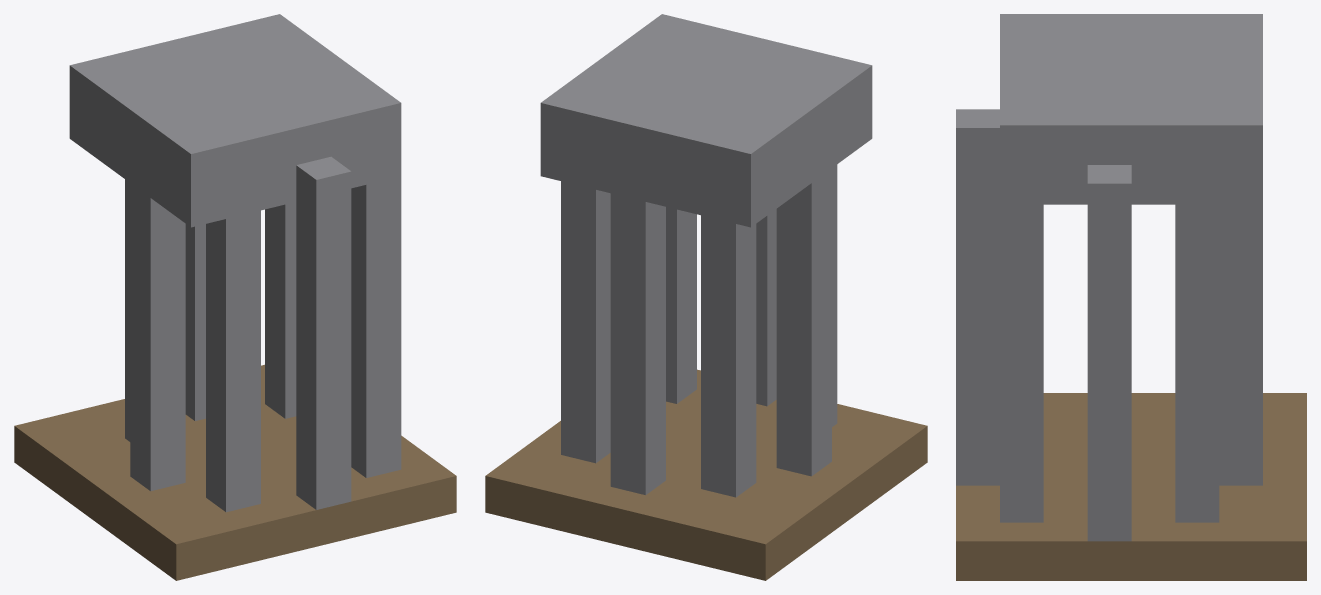
File: jaula_pajaro_01.glb
3 views of the same model, side by side, from view 1: azimuth 30°, elevation 25°; view 2: azimuth 150°, elevation 25°; view 3: azimuth 270°, elevation 25° (orthographic). The views are drawn at different scales.
Parts seen in each view (by area): view 1: jaula_pajaro; view 2: jaula_pajaro; view 3: jaula_pajaro.
Boxes of the visible parts, bbox=[...] form: jaula_pajaro: bbox=[14, 14, 456, 580]; jaula_pajaro: bbox=[485, 14, 927, 580]; jaula_pajaro: bbox=[956, 14, 1306, 580].
Bounding box in the file's own units: 0.6667 × 0.9167 × 0.6667.
